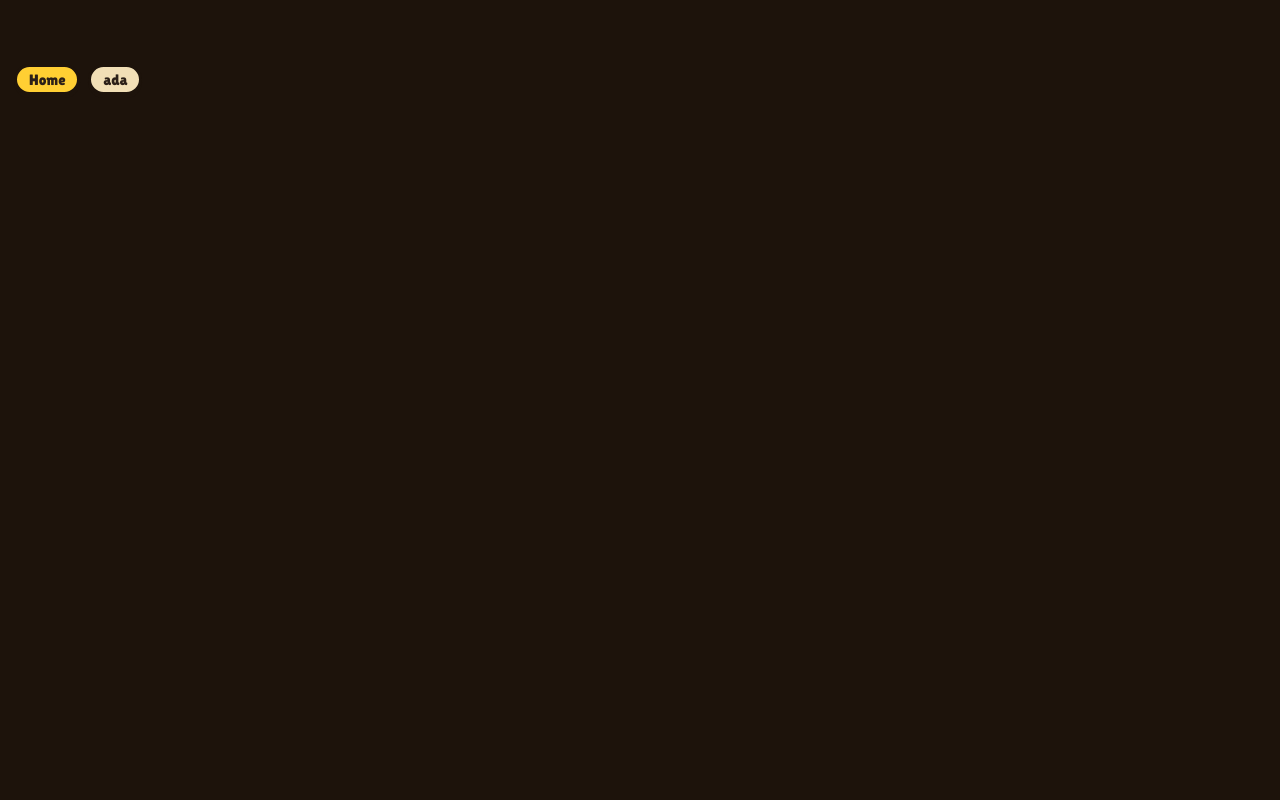
it: a village that has not paired this Mac takes a pairing code, and shows the number to read back
Click the button "ada" at (116, 80), box [88,64,142,95]
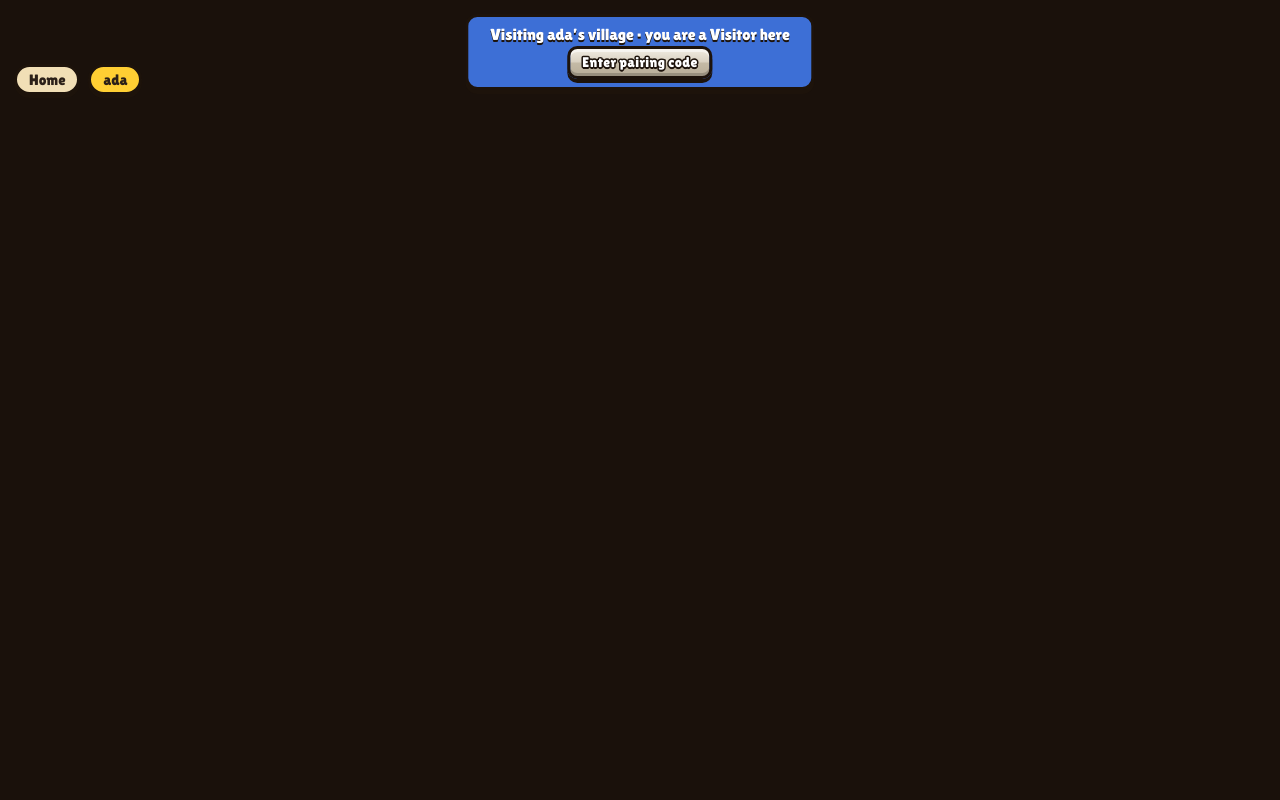
Now the text "Visiting ada’s village · you are a Visitor here" is shown, box [490,25,790,44]
Click the button "Enter pairing code" at (640, 63), box [567,46,713,79]
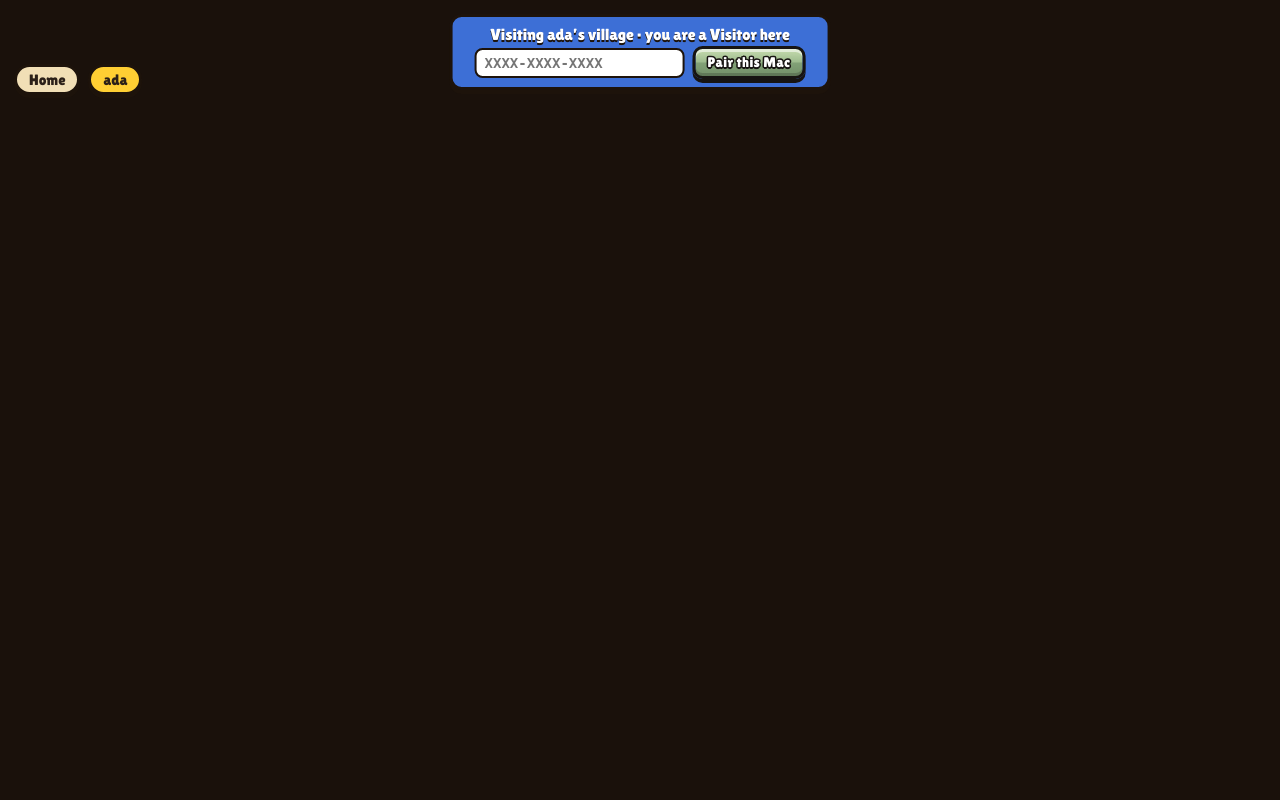
Type "0000-0000-eqk1" into the field named "Pairing code from ada" at (580, 63), box [475,48,685,78]
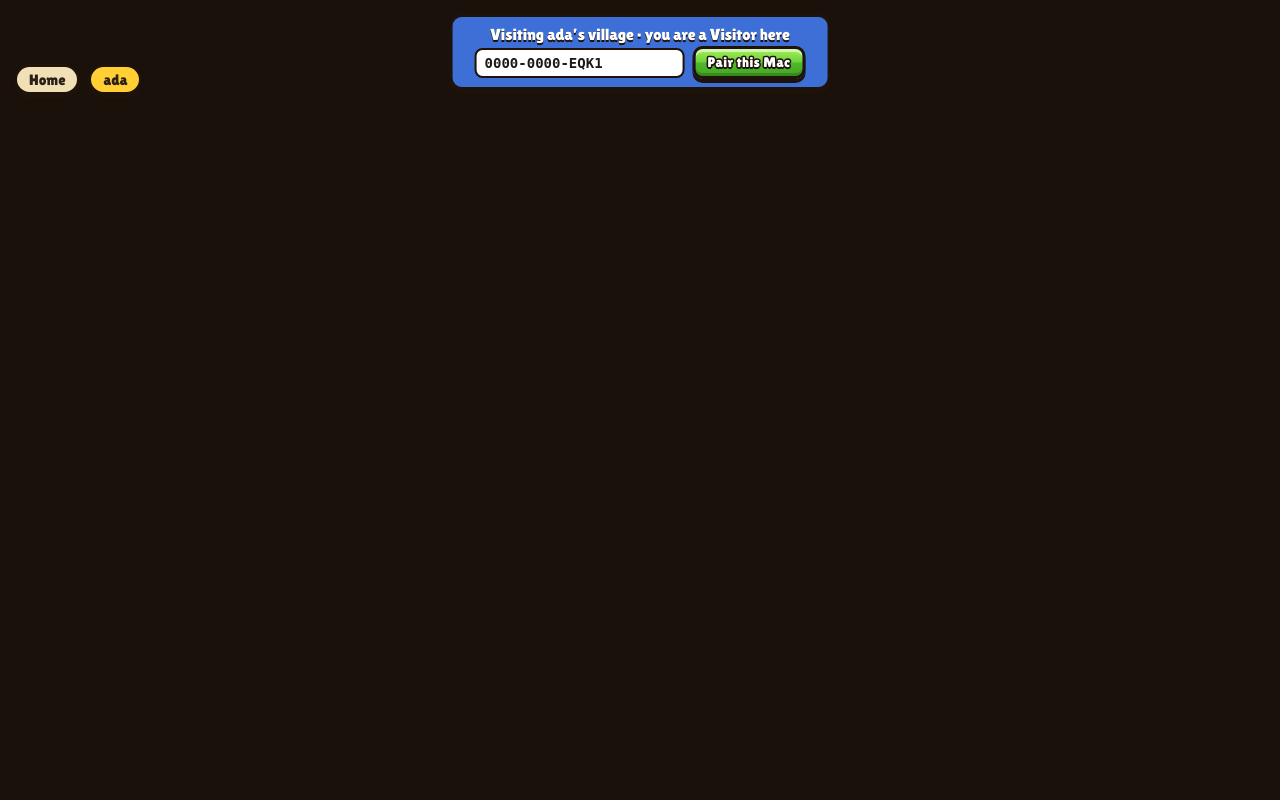
Click the button "Pair this Mac" at (749, 63), box [693,46,806,79]
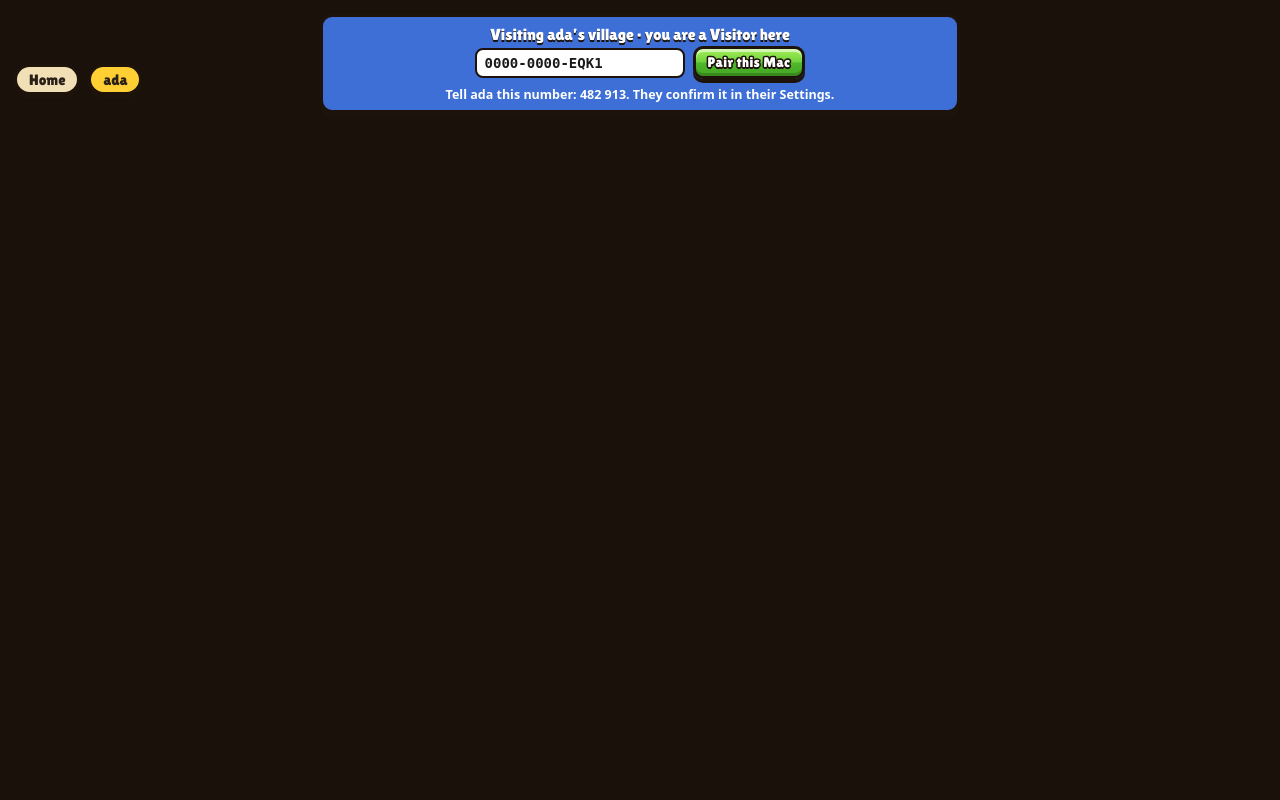
Now the text "Tell ada this number: 482 913" is shown, box [446,87,834,102]
Click the button "Pair this Mac" at (749, 63), box [693,46,806,79]
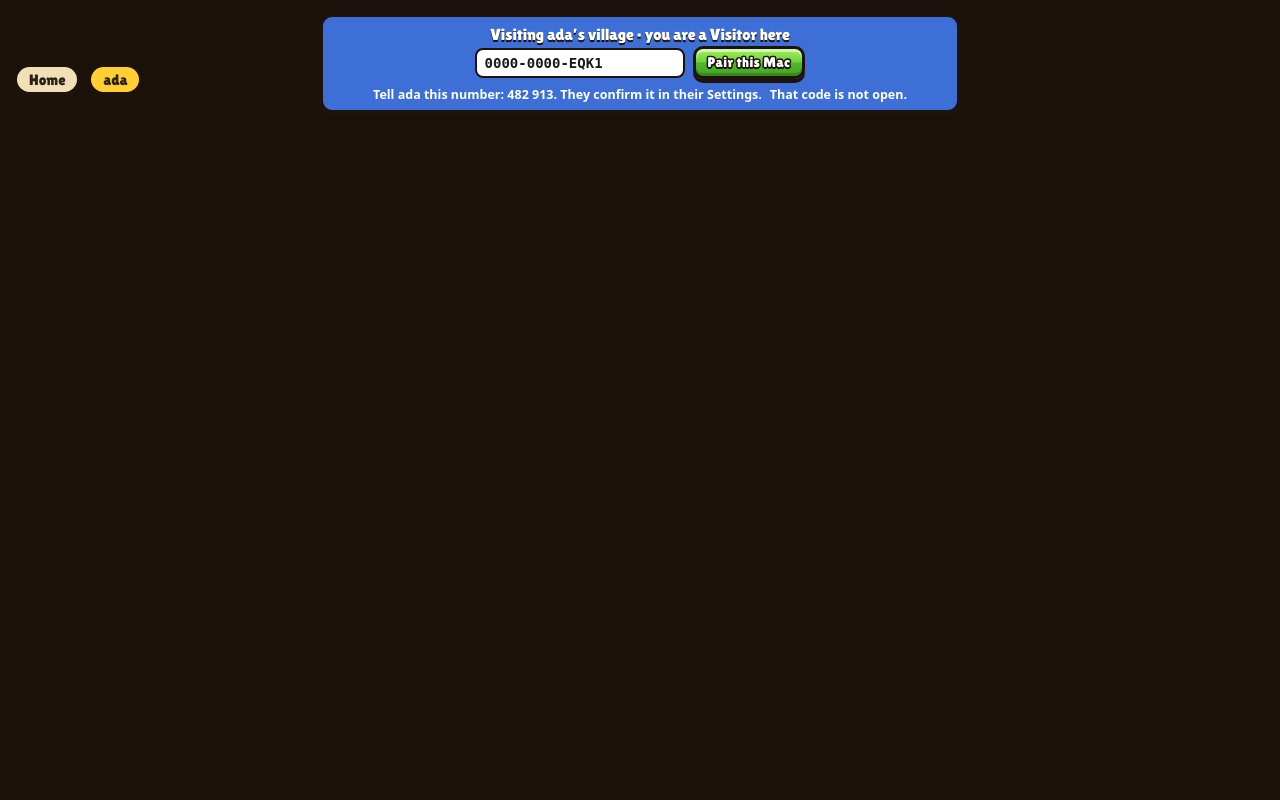
Now the message reads "That code is not open.", box [770,86,907,103]
